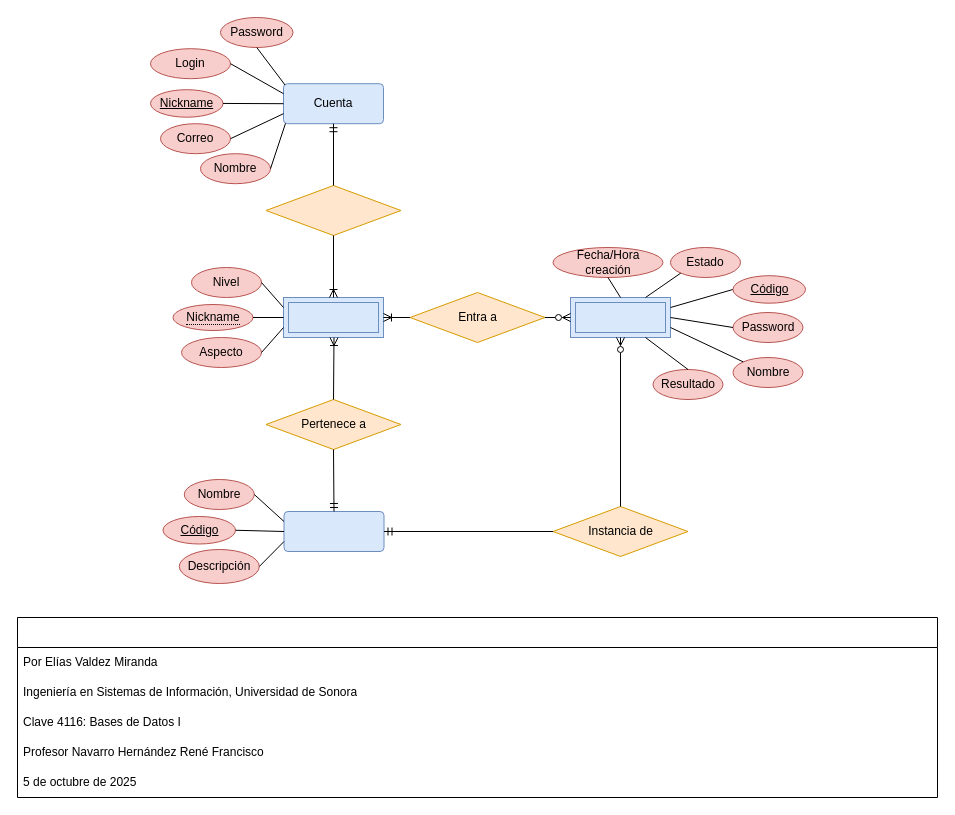
Image size: 955x815. Some labels were removed from this diagram. The shapes that lost their labels are listed below. From the top down, each one's box as (x1, y1, x2, y2) in pixels, then its label:
(265, 184, 401, 236): Representa
(282, 296, 384, 338): Avatar
(570, 296, 670, 338): Partida
(283, 510, 384, 552): Juego
(16, 616, 938, 798): Actividad 14 - Base de datos de juegos en línea
